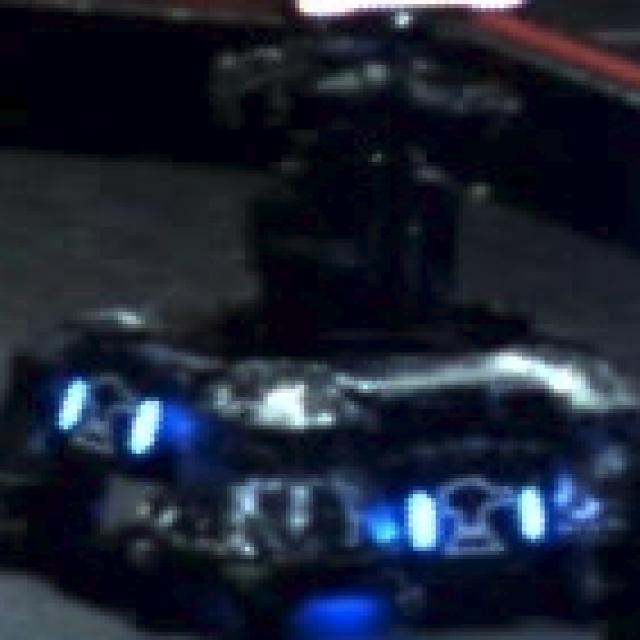Bs: (413, 482, 558, 547), (59, 380, 163, 458)
